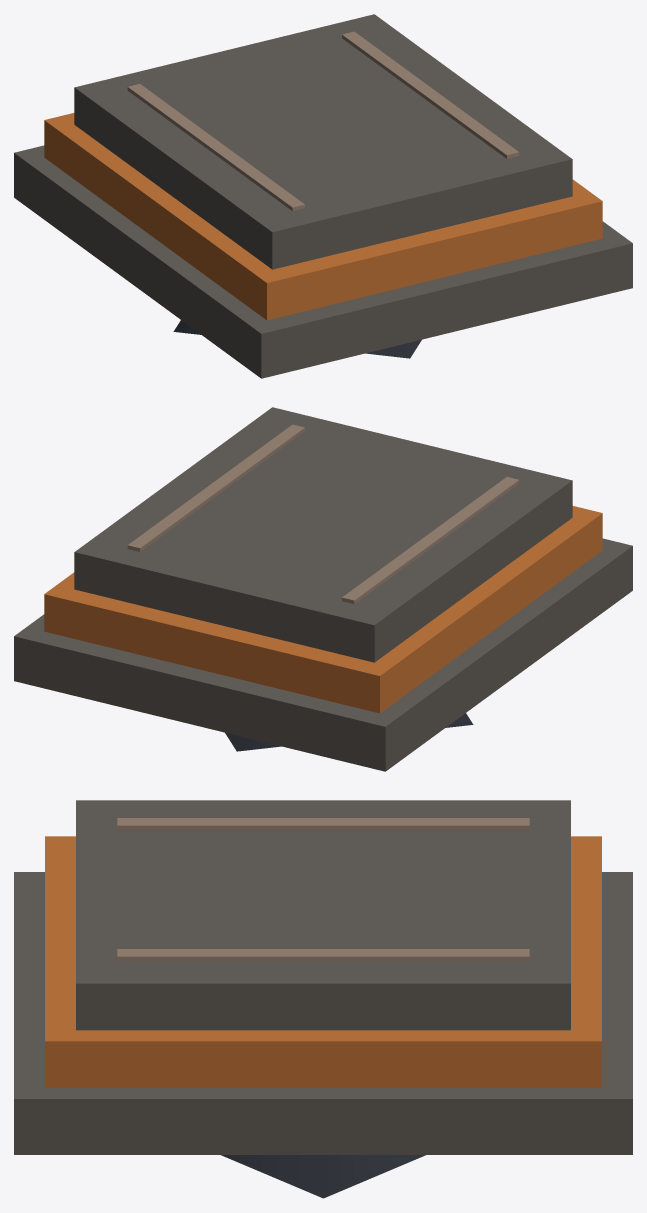
Rendered from compact_high_gravity--armor_plate.glb.
3 renders of one model, top to bottom at view 1: azimuth 30°, elevation 25°; view 2: azimuth 150°, elevation 25°; view 3: azimuth 270°, elevation 25°, orthographic. The views are drawn at different scales.
Visible parts, largest first — view 1: layered_armor_5, layered_armor_3, layered_armor_4, armor_brace_7, armor_brace_6, mount_adapter_1; view 2: layered_armor_5, layered_armor_3, layered_armor_4, armor_brace_7, armor_brace_6, mount_adapter_1; view 3: layered_armor_5, layered_armor_3, layered_armor_4, armor_brace_6, armor_brace_7, mount_adapter_1.
Boxes of the visible parts, box(x1,y1,x2,y2) form: layered_armor_5: box(74, 14, 572, 269); layered_armor_3: box(14, 145, 632, 378); layered_armor_4: box(44, 113, 602, 320); armor_brace_7: box(342, 31, 519, 158); armor_brace_6: box(127, 84, 304, 211); mount_adapter_1: box(173, 320, 421, 358); layered_armor_5: box(74, 407, 572, 662); layered_armor_3: box(14, 538, 632, 771); layered_armor_4: box(44, 506, 602, 713); armor_brace_7: box(127, 424, 304, 551); armor_brace_6: box(342, 477, 519, 604); mount_adapter_1: box(225, 713, 473, 751); layered_armor_5: box(76, 800, 570, 1030); layered_armor_3: box(14, 872, 632, 1154); layered_armor_4: box(45, 836, 601, 1087); armor_brace_6: box(117, 818, 529, 830); armor_brace_7: box(117, 949, 529, 961); mount_adapter_1: box(221, 1155, 425, 1198).
Bounding box in the file's own units: 24.96 × 11.28 × 28.8.
